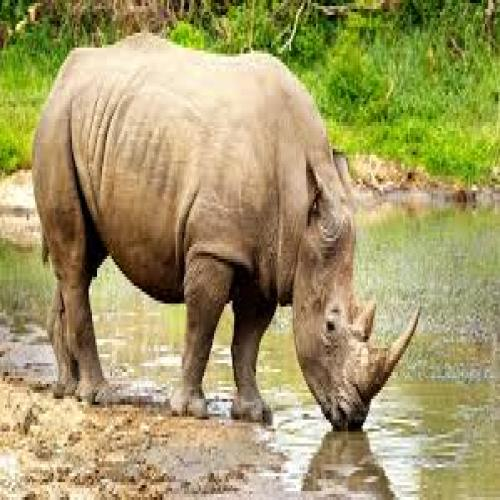rhino-endangered: (38, 30, 418, 414)
